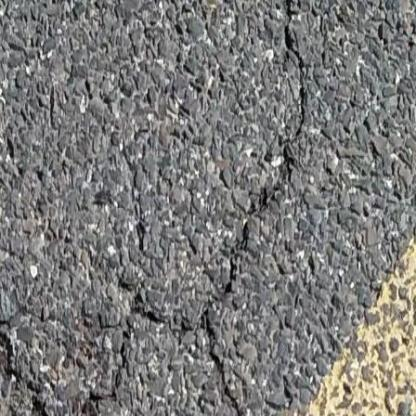Cracks: (44, 179, 411, 416), (61, 113, 408, 315), (5, 252, 340, 416), (247, 0, 345, 235), (0, 314, 91, 416)
